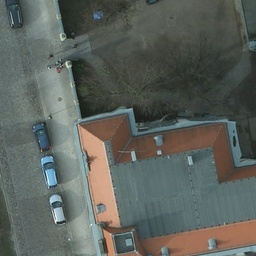car: (40, 153, 60, 186), (49, 193, 67, 228), (5, 0, 24, 28), (34, 122, 47, 148), (139, 0, 160, 6)
